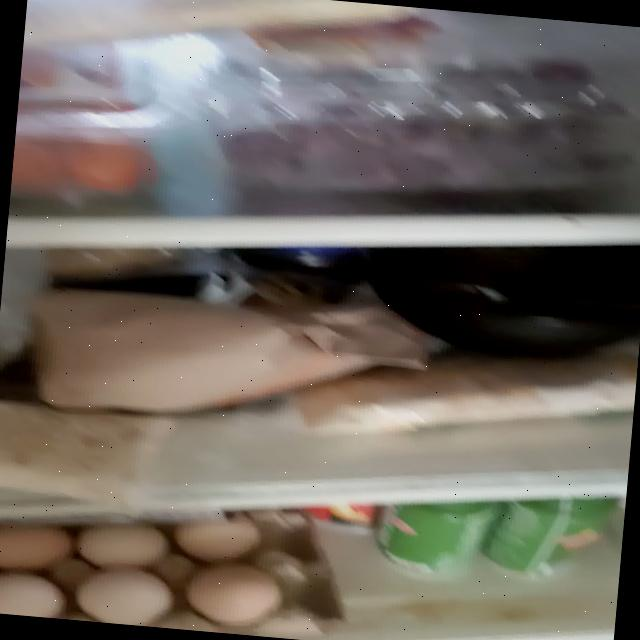egg: (0, 485, 354, 640)
